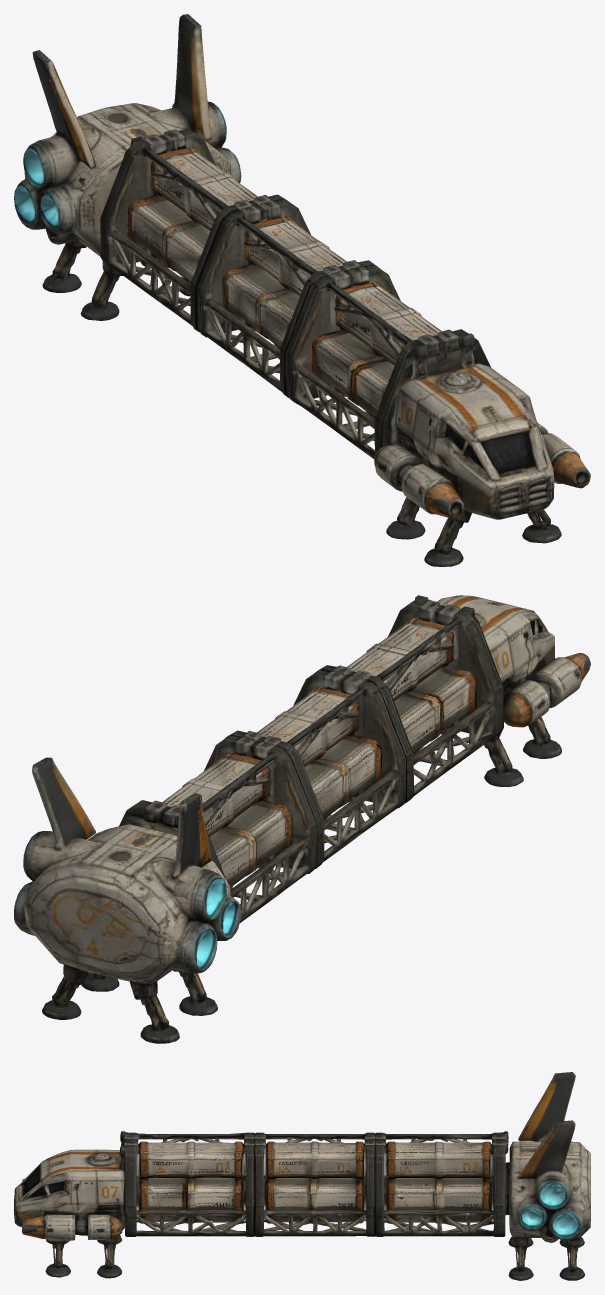
Rendered from longhaul.glb.
3 renders of one model, top to bottom at view 1: azimuth 30°, elevation 25°; view 2: azimuth 150°, elevation 25°; view 3: azimuth 270°, elevation 25°, orthographic. The views are drawn at different scales.
Parts seen in each view (by area): view 1: tripo_node_d4f15c43-7d8a-4500-bf4a-aff094d7fc92; view 2: tripo_node_d4f15c43-7d8a-4500-bf4a-aff094d7fc92; view 3: tripo_node_d4f15c43-7d8a-4500-bf4a-aff094d7fc92.
Boxes of the visible parts, x1=… form: tripo_node_d4f15c43-7d8a-4500-bf4a-aff094d7fc92: x1=14, y1=14, x2=590, y2=566; tripo_node_d4f15c43-7d8a-4500-bf4a-aff094d7fc92: x1=14, y1=595, x2=590, y2=1043; tripo_node_d4f15c43-7d8a-4500-bf4a-aff094d7fc92: x1=14, y1=1072, x2=590, y2=1280.
Bounding box in the file's own units: 0.2464 × 0.3111 × 0.9997.
1 material, 1 textured.
